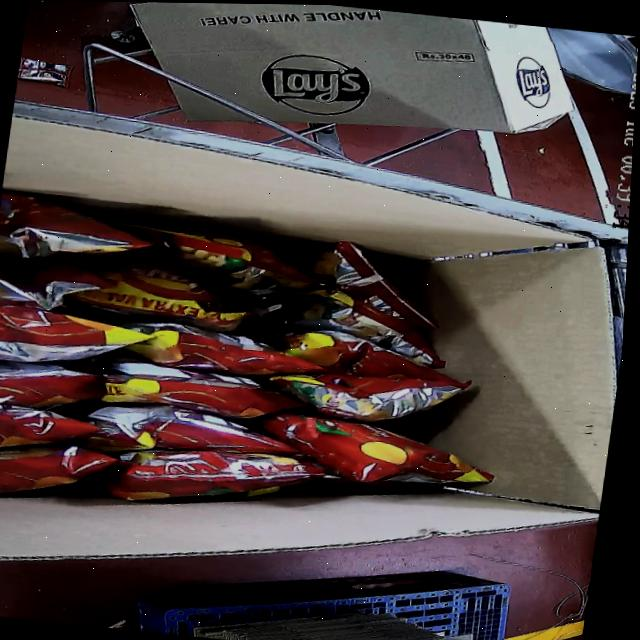MASALA: (0, 188, 529, 553)
